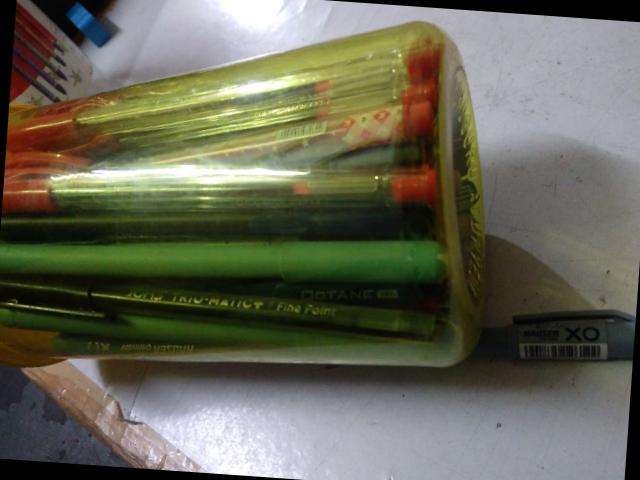PEN: (0, 140, 460, 341), (475, 289, 637, 390)
